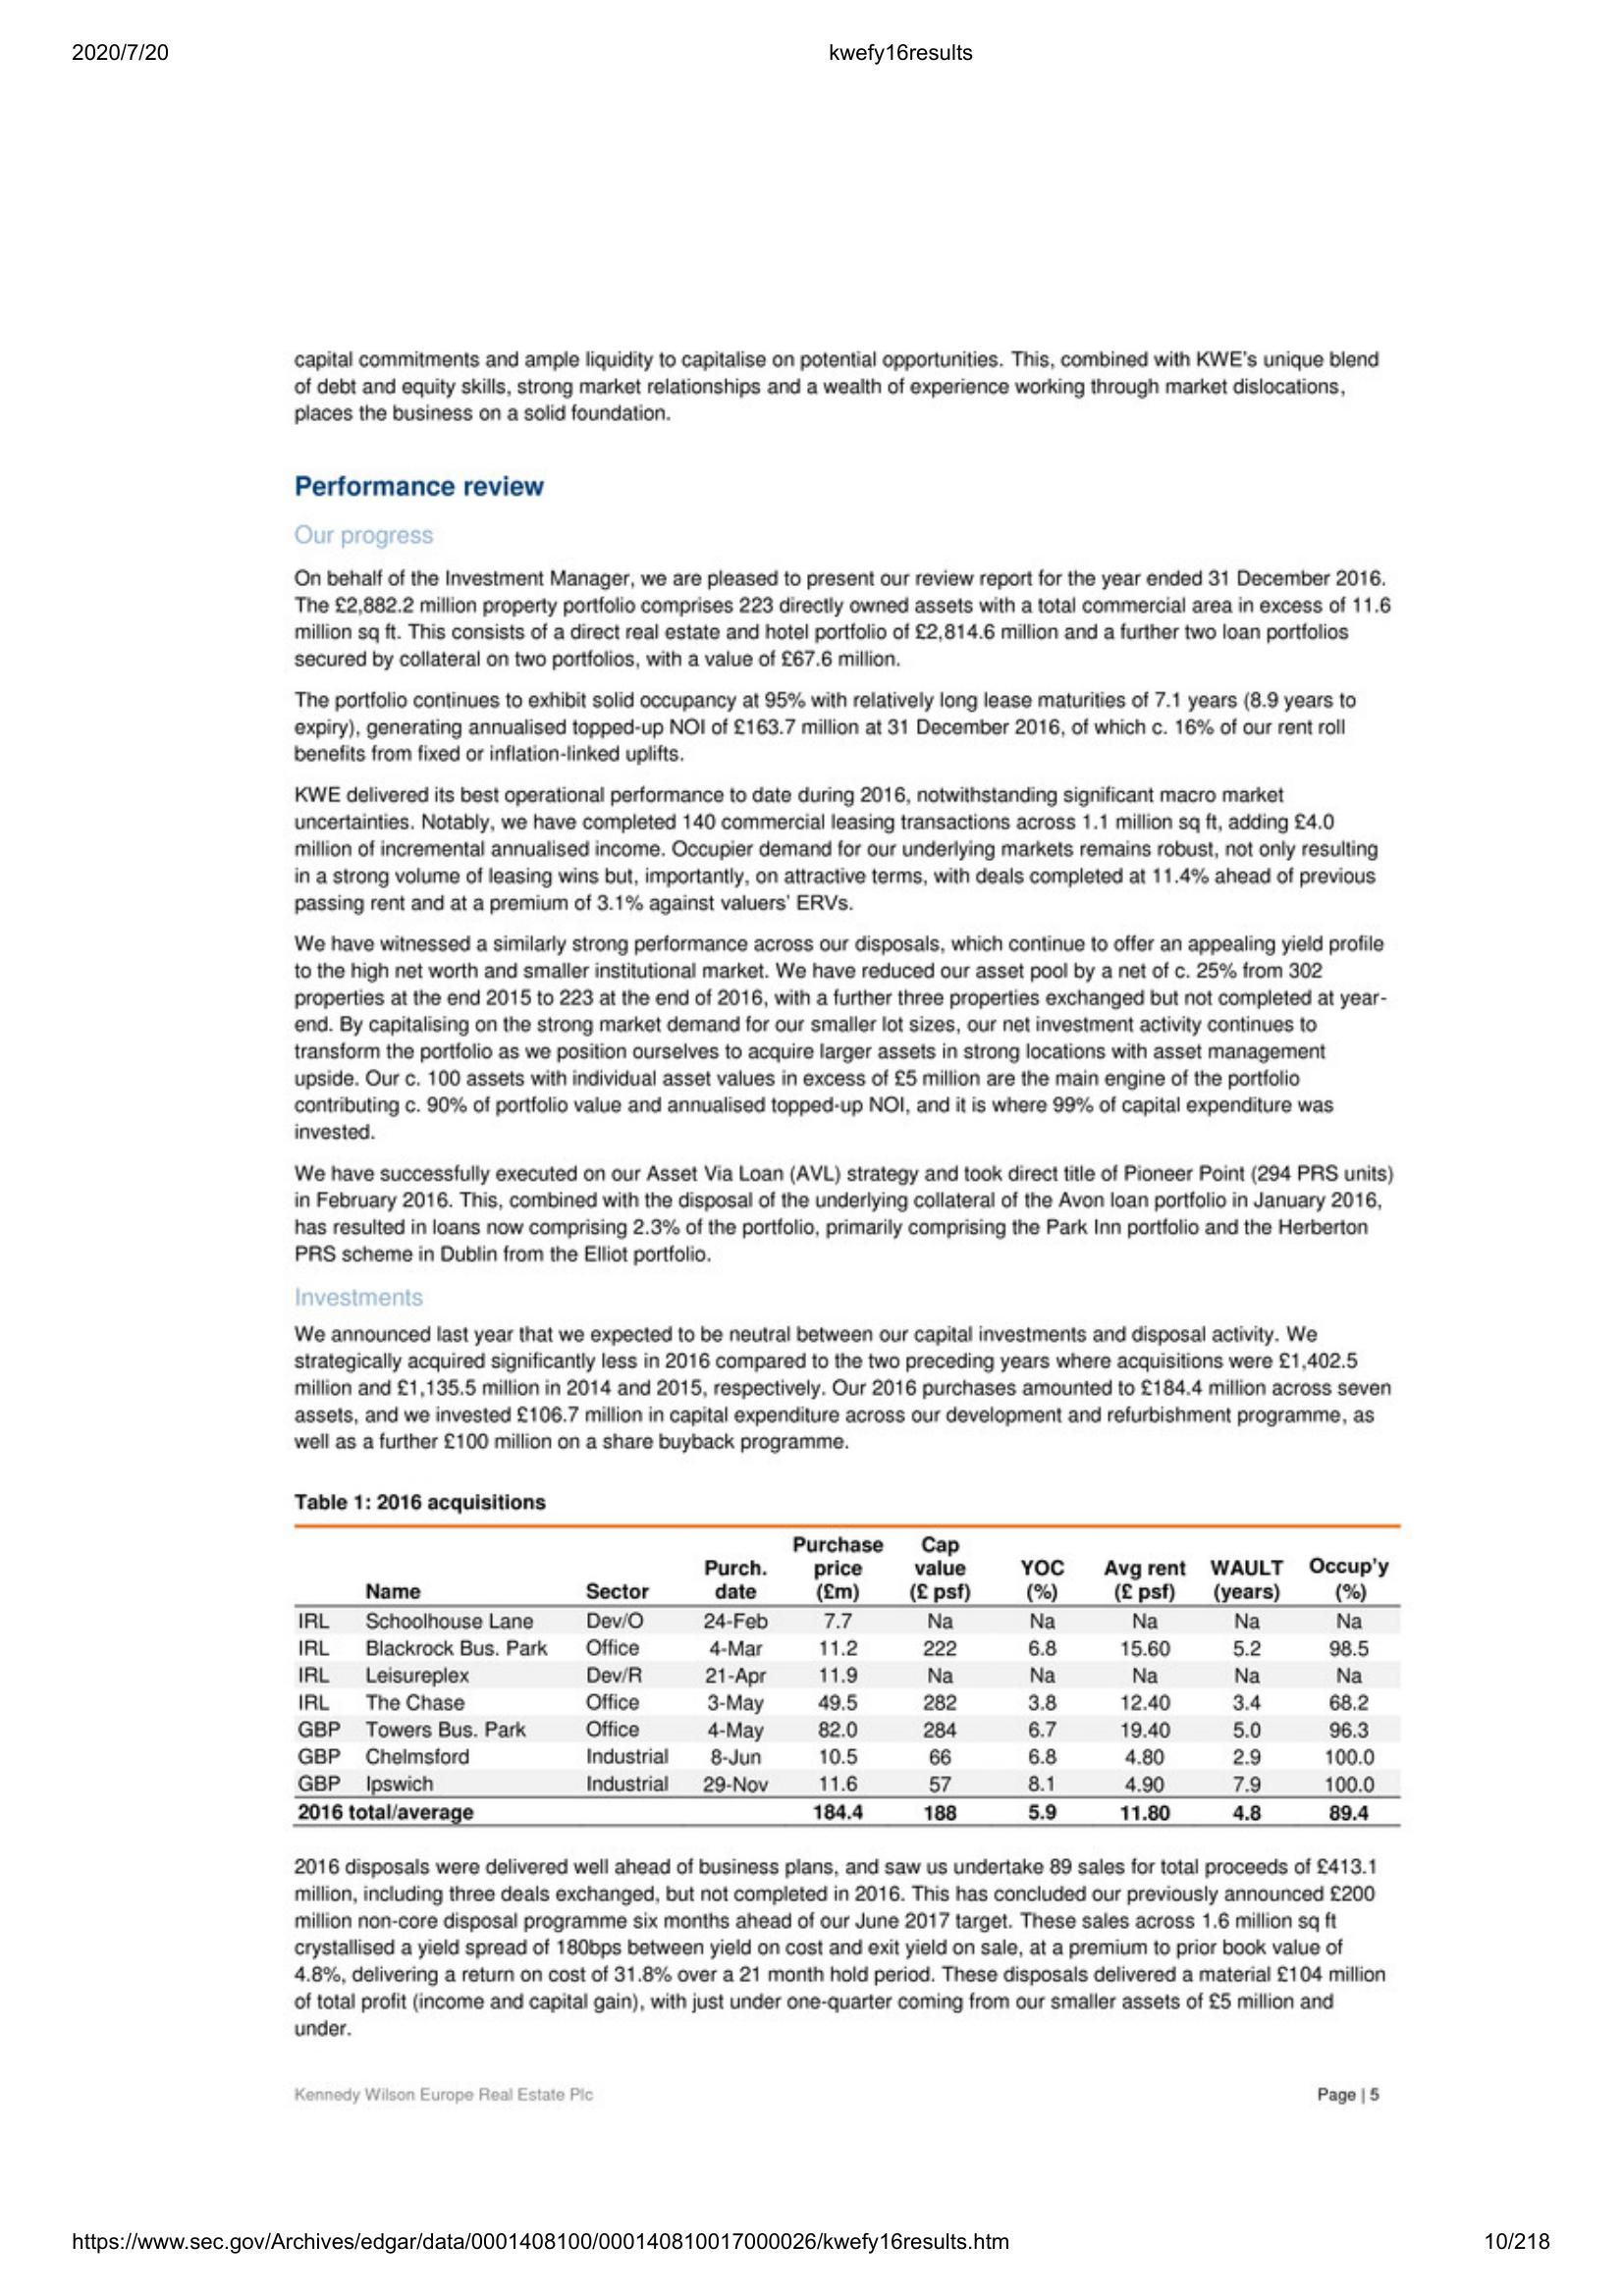table: (292, 1518, 1409, 1834)
